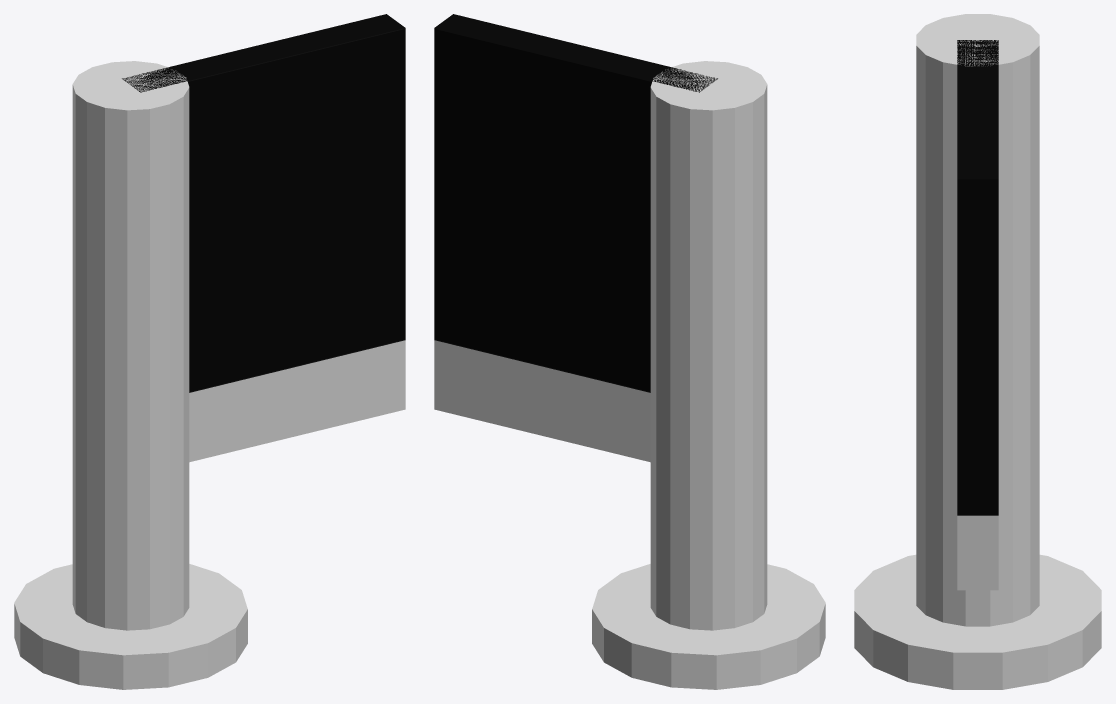
The model's file is dc_metrobus_wall_2b.obj.
3 renders of one model, left to right at view 1: azimuth 30°, elevation 25°; view 2: azimuth 150°, elevation 25°; view 3: azimuth 270°, elevation 25°, orthographic. The views are drawn at different scales.
Visible parts, largest first — view 1: cube, cylinder; view 2: cube, cylinder; view 3: cylinder, cube.
Part boxes in pixels (x1=…): cube: x1=122, y1=14, x2=405, y2=462; cylinder: x1=14, y1=61, x2=247, y2=689; cube: x1=434, y1=14, x2=717, y2=462; cylinder: x1=592, y1=61, x2=825, y2=689; cylinder: x1=854, y1=14, x2=1101, y2=689; cube: x1=957, y1=40, x2=998, y2=590.
Bounding box in the file's own units: 0.6875 × 1 × 0.375.
2 materials, 2 textured.
